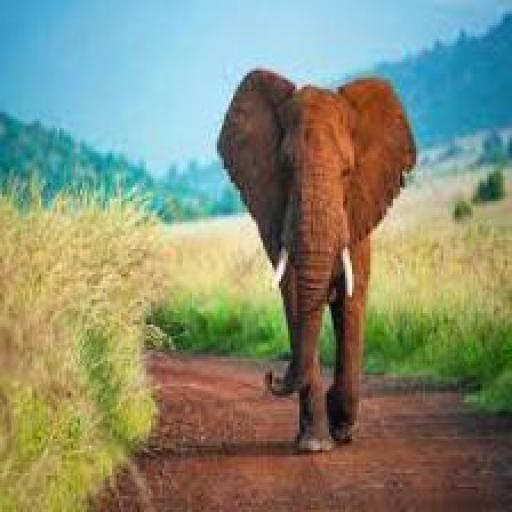Elephant: (183, 62, 449, 455)
